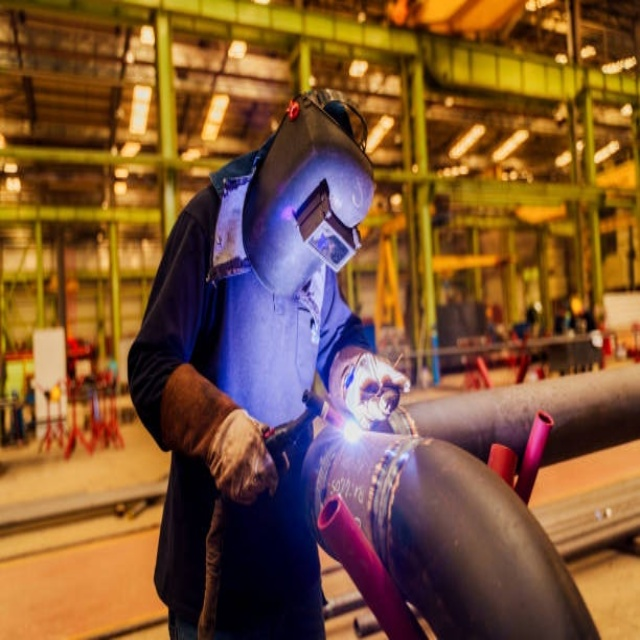Guantes: (155, 350, 279, 511), (332, 344, 417, 438)
